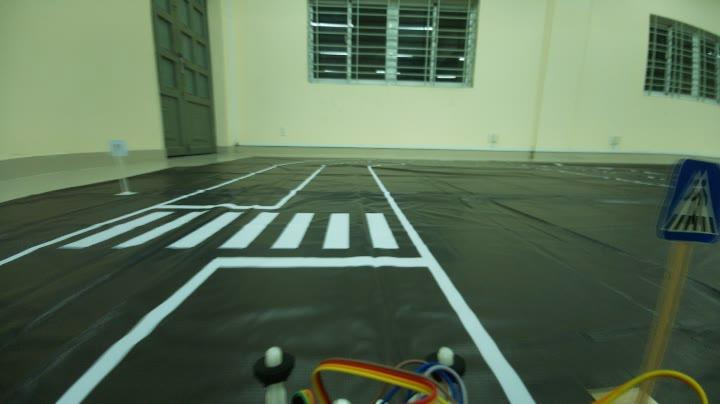crosswalk: (658, 151, 718, 252)
